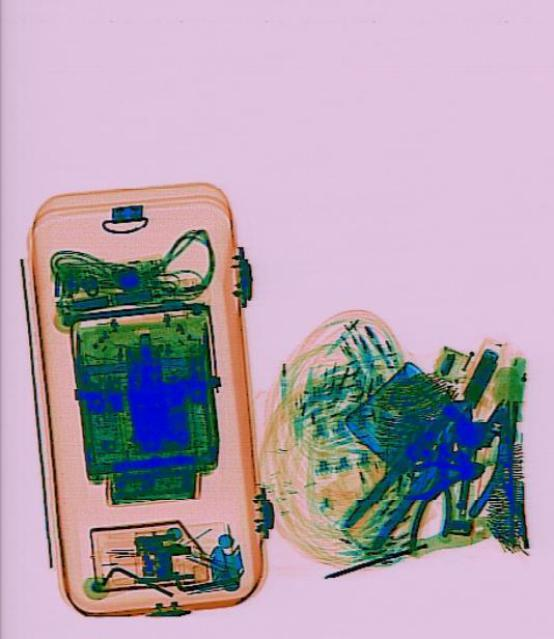Pliers: (444, 390, 524, 524), (404, 438, 461, 550), (399, 448, 486, 503)
